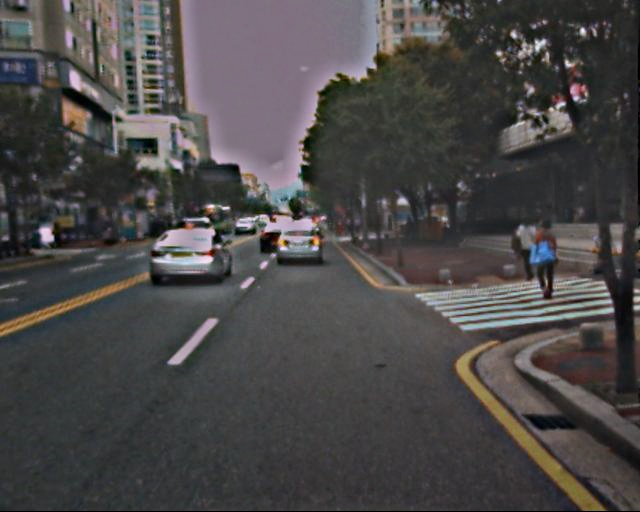person: (528, 218, 565, 303), (511, 213, 543, 284)
